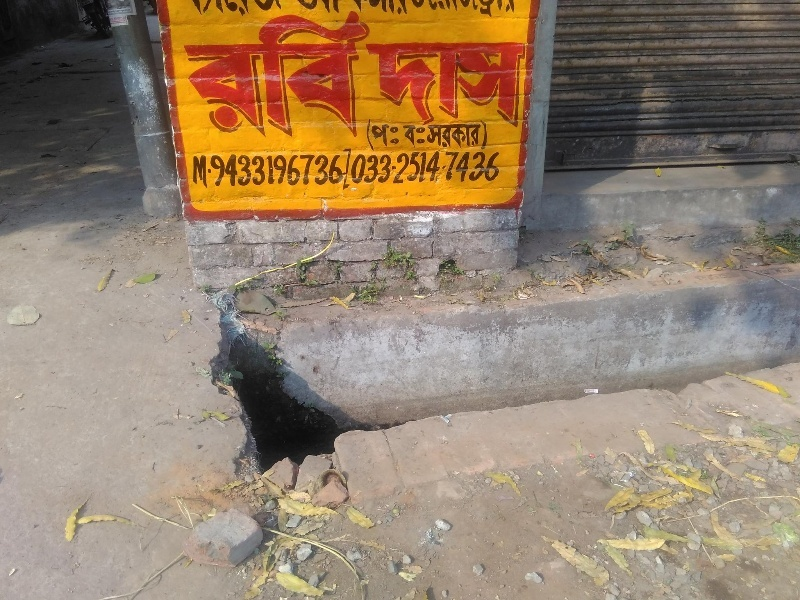text: (193, 11, 208, 152), (209, 11, 224, 152), (225, 11, 240, 152), (241, 11, 256, 152), (257, 11, 272, 152), (273, 11, 288, 152), (289, 11, 304, 152), (305, 11, 320, 152), (321, 11, 336, 152), (337, 11, 352, 152), (353, 11, 368, 152), (369, 40, 384, 128), (385, 40, 400, 128), (401, 40, 416, 128), (417, 40, 432, 128), (433, 40, 448, 128), (449, 40, 464, 128), (465, 40, 480, 128), (481, 40, 496, 128), (497, 40, 512, 128), (513, 40, 528, 128), (184, 11, 192, 152), (369, 11, 376, 152), (193, 145, 208, 193), (209, 145, 224, 193), (225, 145, 240, 193), (241, 145, 256, 193), (257, 145, 272, 193), (273, 145, 288, 193), (289, 145, 304, 193), (305, 145, 320, 193), (321, 145, 336, 193), (337, 145, 352, 193), (353, 145, 368, 193), (369, 145, 384, 193), (385, 145, 400, 193), (401, 145, 416, 193), (417, 145, 432, 193), (433, 145, 448, 193), (449, 145, 464, 193), (465, 145, 480, 193), (481, 145, 496, 193), (369, 123, 384, 151), (385, 123, 400, 151), (401, 123, 416, 151), (417, 123, 432, 151), (433, 123, 448, 151), (449, 123, 464, 151), (465, 123, 480, 151), (497, 145, 505, 193), (113, 4, 128, 29), (364, 40, 368, 128), (193, 1, 208, 20), (209, 1, 224, 20), (225, 1, 240, 20), (241, 1, 256, 20), (257, 1, 272, 20), (273, 1, 288, 20), (289, 1, 304, 20), (305, 1, 320, 20), (321, 1, 336, 20), (337, 1, 352, 20), (353, 1, 368, 20), (369, 1, 384, 20), (385, 1, 400, 20), (401, 1, 416, 20), (417, 1, 432, 20), (433, 1, 448, 20), (449, 1, 464, 20), (465, 1, 480, 20), (481, 1, 496, 20), (497, 1, 512, 20), (102, 4, 112, 29), (481, 123, 489, 151), (129, 4, 136, 29), (513, 1, 522, 20), (186, 1, 192, 20), (529, 40, 530, 128), (365, 123, 368, 151), (191, 145, 192, 193)
